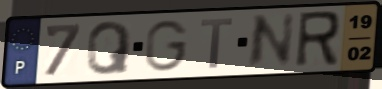7: (42, 21, 83, 79)
G: (144, 18, 192, 73)
N: (244, 11, 298, 72)
Q: (85, 19, 135, 77)
R: (292, 9, 343, 70)
T: (198, 17, 236, 71)
